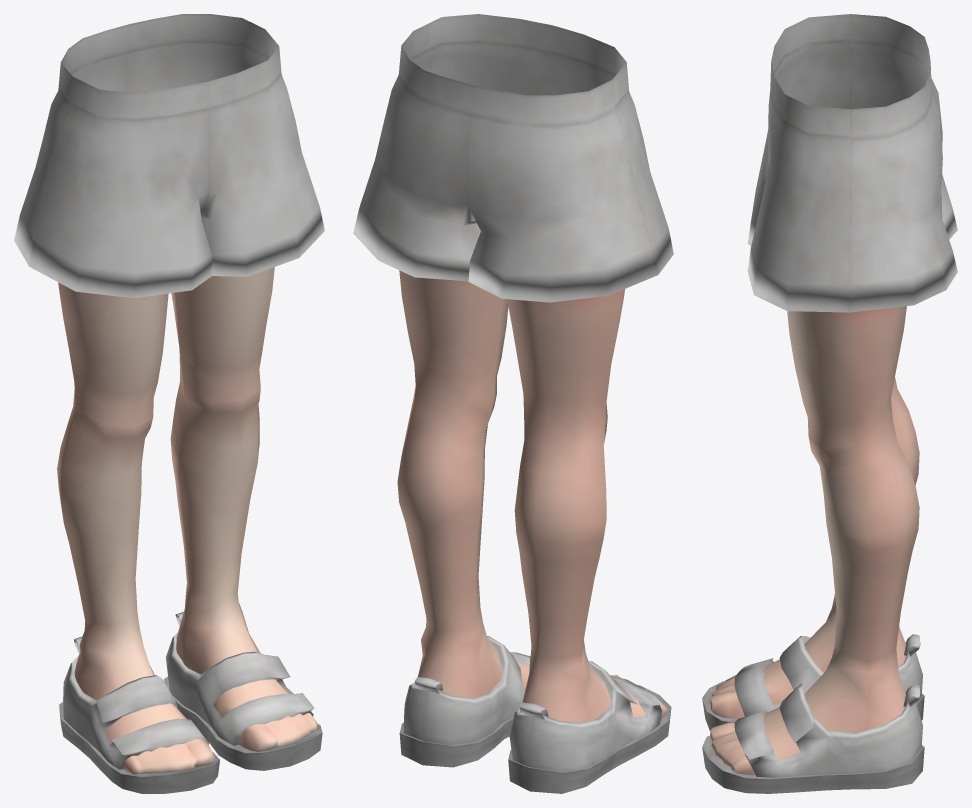
Rendered from tr0750_00_lwb01.gltf.
3 views of the same model, side by side, from view 1: azimuth 30°, elevation 25°; view 2: azimuth 150°, elevation 25°; view 3: azimuth 270°, elevation 25° (orthographic). The views are drawn at different scales.
Parts seen in each view (by area): view 1: lwb01_bottoms_mesh_shape:lowerbody01, lwb01_lowerbody_mesh_shape:lowerbody01_skin, lwb01_shoes_mesh_shape:lowerbody01; view 2: lwb01_bottoms_mesh_shape:lowerbody01, lwb01_lowerbody_mesh_shape:lowerbody01_skin, lwb01_shoes_mesh_shape:lowerbody01; view 3: lwb01_bottoms_mesh_shape:lowerbody01, lwb01_lowerbody_mesh_shape:lowerbody01_skin, lwb01_shoes_mesh_shape:lowerbody01.
Boxes of the visible parts, box(x1,y1,x2,y2) form: lwb01_bottoms_mesh_shape:lowerbody01: box(14, 14, 324, 298); lwb01_lowerbody_mesh_shape:lowerbody01_skin: box(57, 267, 318, 774); lwb01_shoes_mesh_shape:lowerbody01: box(59, 611, 322, 793); lwb01_bottoms_mesh_shape:lowerbody01: box(353, 14, 673, 302); lwb01_lowerbody_mesh_shape:lowerbody01_skin: box(397, 270, 667, 722); lwb01_shoes_mesh_shape:lowerbody01: box(399, 636, 671, 793); lwb01_bottoms_mesh_shape:lowerbody01: box(747, 14, 957, 312); lwb01_lowerbody_mesh_shape:lowerbody01_skin: box(709, 306, 919, 774); lwb01_shoes_mesh_shape:lowerbody01: box(702, 634, 924, 793).
Size of what is drawn, in the model's own units: 0.4189 by 0.9626 by 0.3262.
2 materials, 2 textured.
